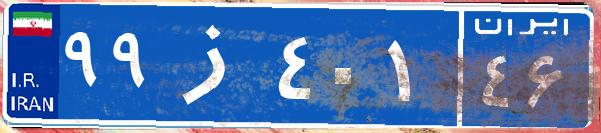0: (330, 28, 385, 110)
1: (385, 28, 445, 110)
4: (273, 28, 330, 110), (475, 38, 525, 113)
6: (525, 38, 570, 115)
9: (57, 26, 110, 107), (110, 28, 158, 105)
ز: (158, 15, 273, 115)
